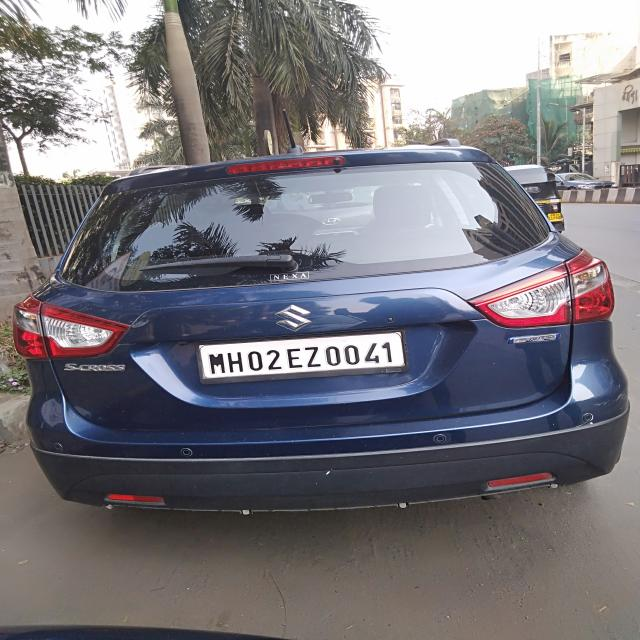Number-Plate: (196, 341, 408, 376)
